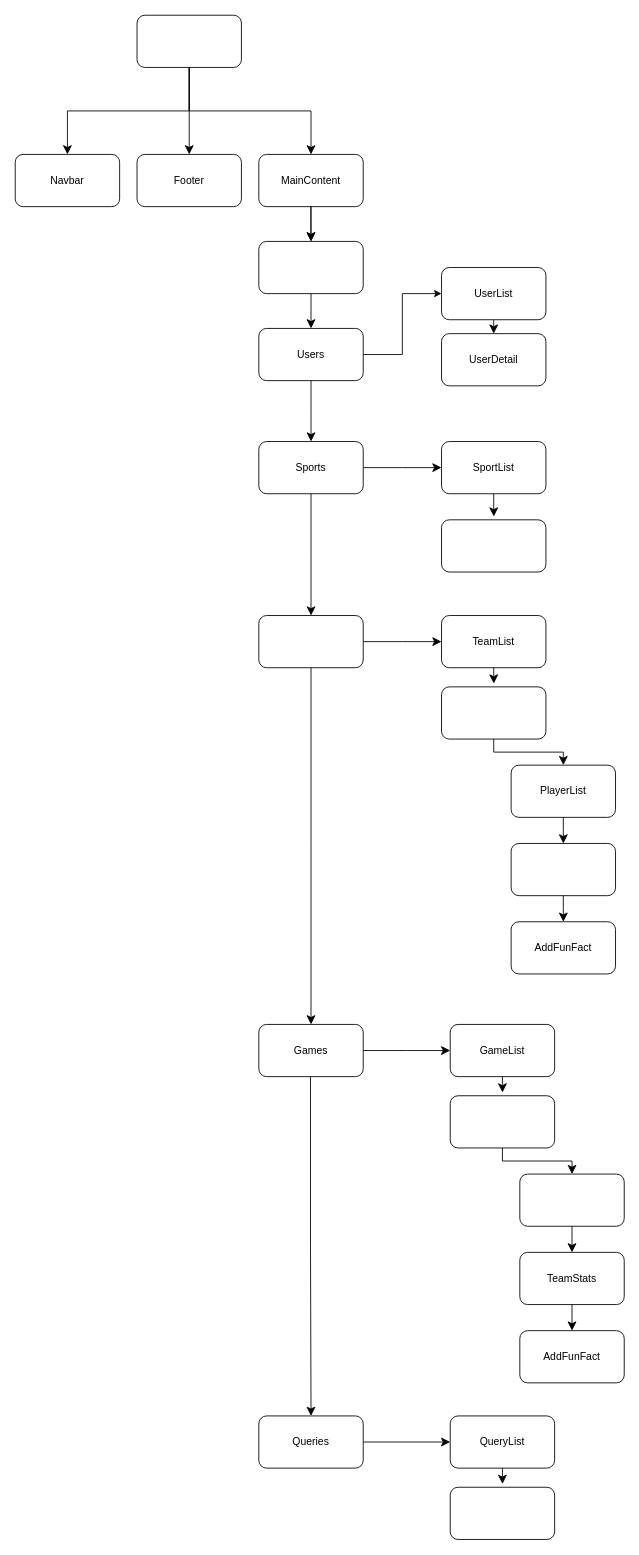
This 639x1555 diagram has some shape labels left out. Here are the shapes that lost their labels. From the top down, the centre of each, then its label:
At point 188,40: "App".
At point 310,267: "Home".
At point 493,545: "SportDetail".
At point 310,641: "Teams".
At point 493,712: "TeamDetail".
At point 563,869: "PlayerDetail".
At point 502,1121: "GameDetail".
At point 571,1199: "PlayerStats".
At point 502,1512: "QueryDetail".
